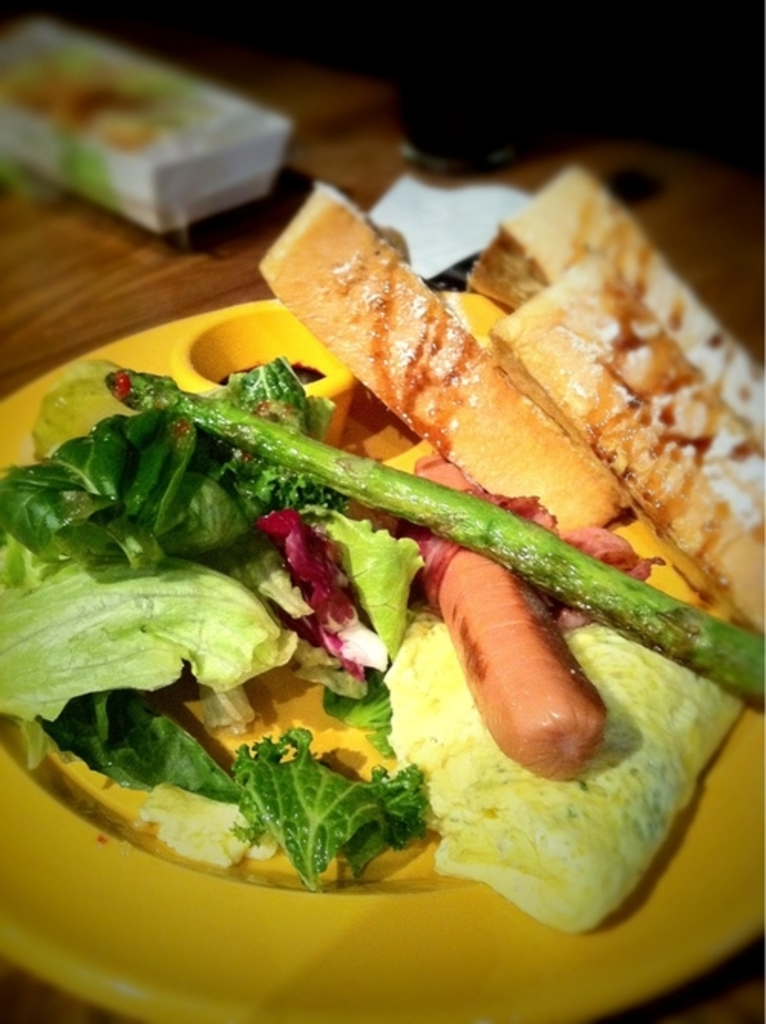sandwich: (259, 161, 764, 639)
